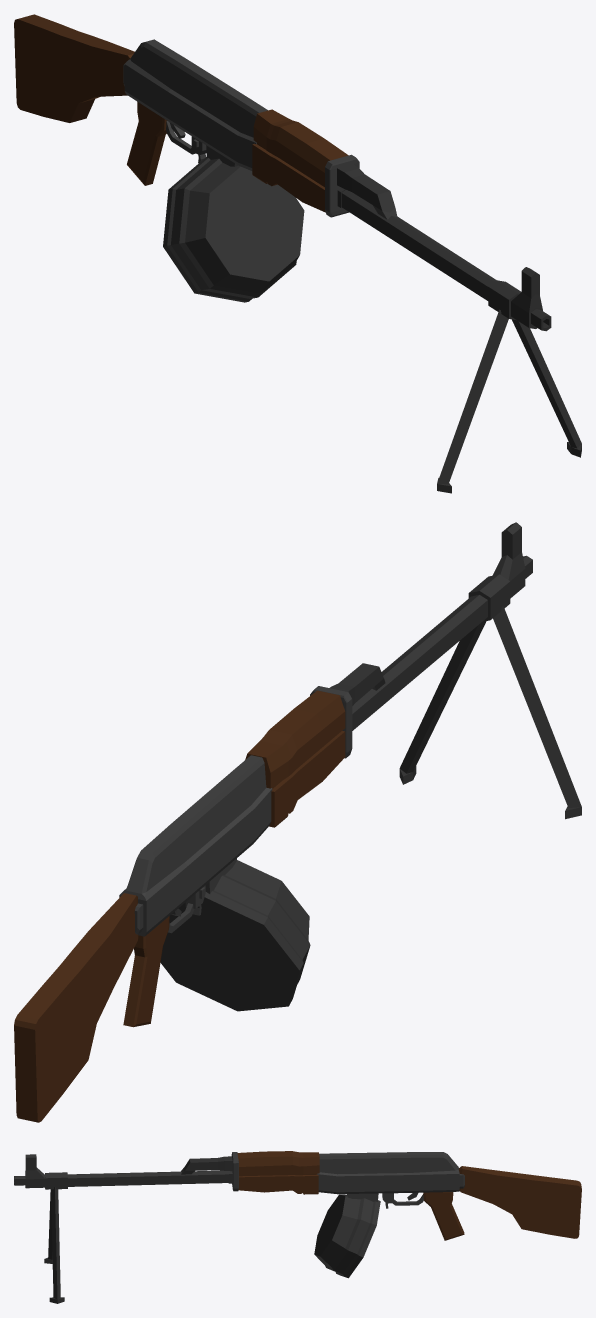
The model's file is Lvl1_AZOV_Gun_Model.fbx.
3 renders of one model, top to bottom at view 1: azimuth 30°, elevation 25°; view 2: azimuth 150°, elevation 25°; view 3: azimuth 270°, elevation 25°, orthographic. The views are drawn at different scales.
Visible parts, largest first — view 1: Torus.001; view 2: Torus.001; view 3: Torus.001.
Part boxes in pixels (<box>): Torus.001: <box>14,14,581,493</box>; Torus.001: <box>14,522,581,1122</box>; Torus.001: <box>14,1151,581,1303</box>.
Bounding box in the file's own units: 36.8 × 45.55 × 182.
